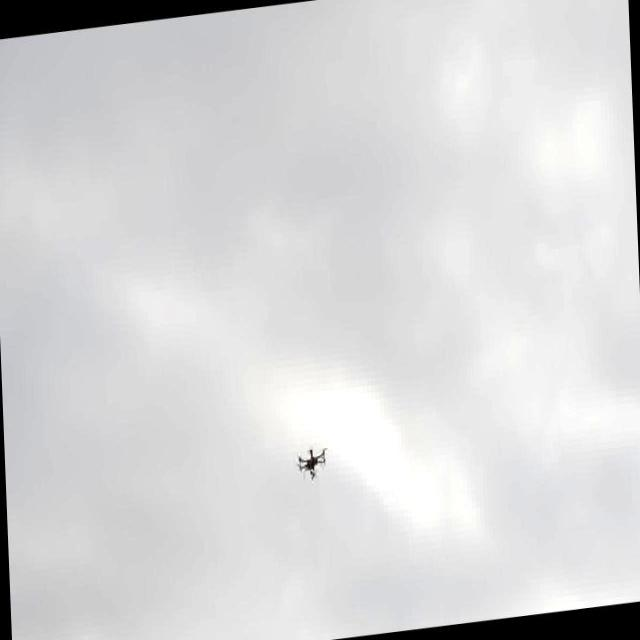drone: (294, 439, 328, 482)
